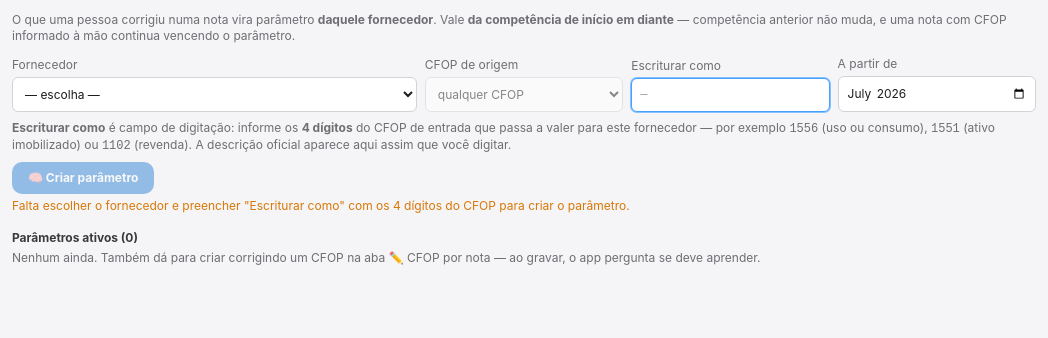
it: 🚨 gravou e não leu — a tela DIZ, em vez de parecer que não gravou › leitura recusada depois de gravar acende o aviso NOMEANDO a causa
The width and height of the screenshot is (1048, 338).
Select "Parnassa Comercio de Tecidos e Aviamentos Ltda (7 notas)" in the dropdown labelled "Fornecedor" at (214, 94), box top-left (12, 77), bottom-right (417, 112)
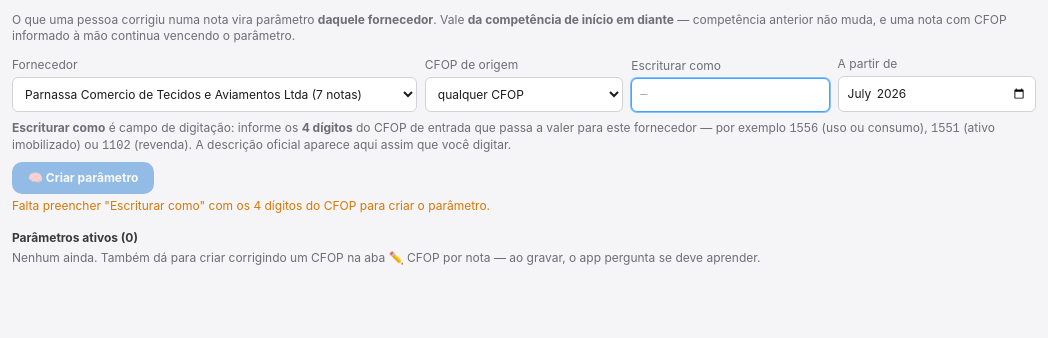
Type "1407" into the field labelled "Escriturar como" at (730, 95), box top-left (631, 78), bottom-right (830, 112)
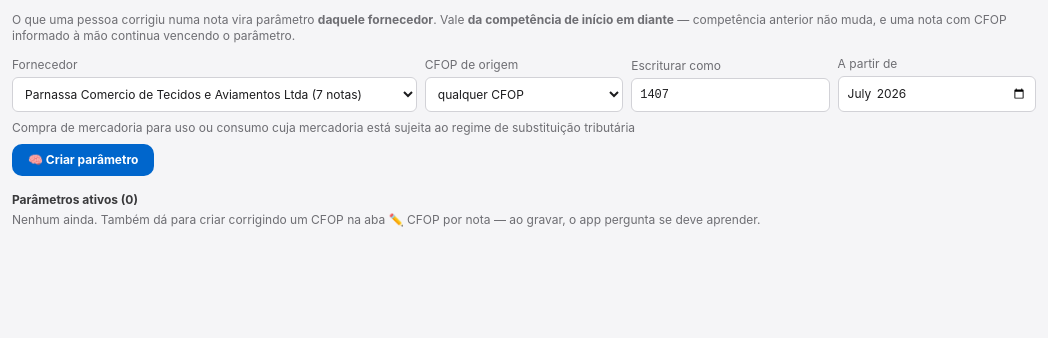
Click the button "🧠 Criar parâmetro" at (83, 160), box top-left (12, 144), bottom-right (154, 176)
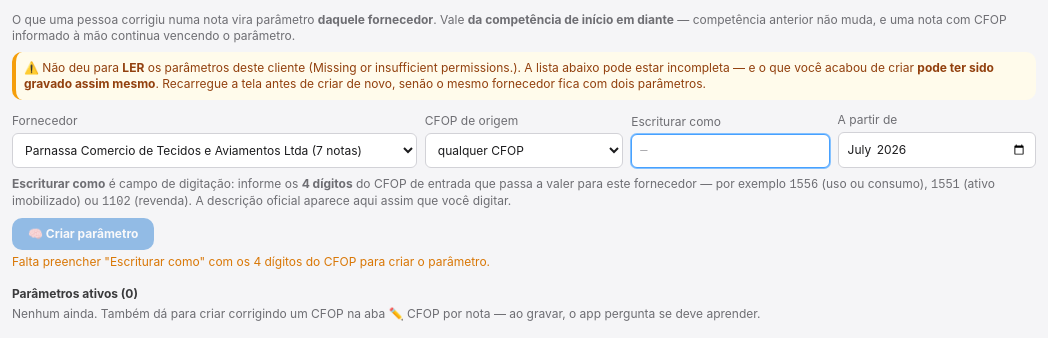
Now the text "Não deu para" shows "Missing or insufficient permissions", box top-left (313, 60), bottom-right (513, 75)
Now the text "Não deu para" shows "pode ter sido gravado", box top-left (24, 60), bottom-right (994, 91)
Now the text "Não deu para" shows "dois parâmetros", box top-left (156, 76), bottom-right (706, 91)
